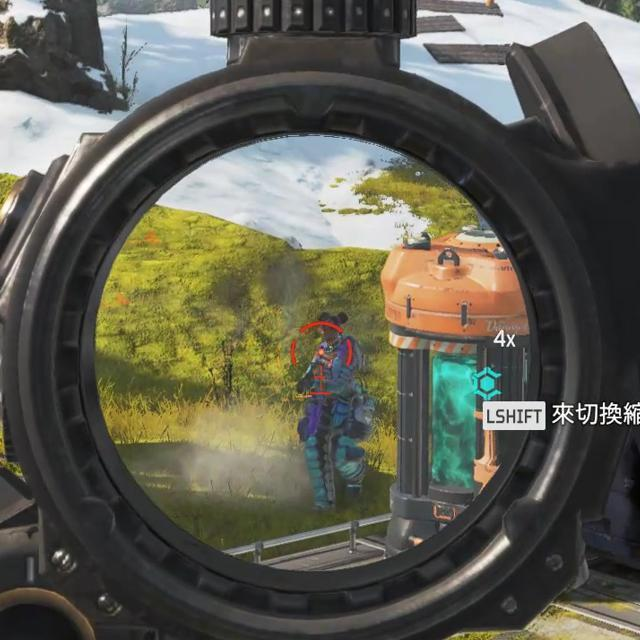avatar: (294, 309, 374, 518)
